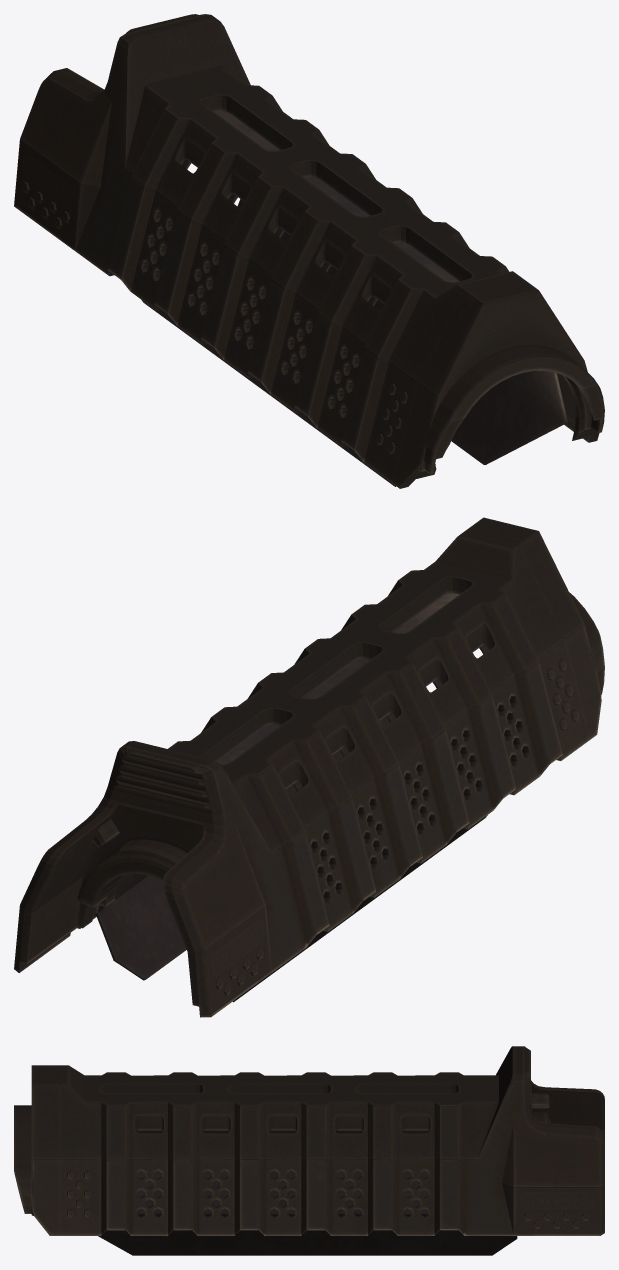
3 views of the same model, one above another, from view 1: azimuth 30°, elevation 25°; view 2: azimuth 150°, elevation 25°; view 3: azimuth 270°, elevation 25° (orthographic). The views are drawn at different scales.
Visible parts, largest first — view 1: TW_63969c9019971040b005049b_PZ_Import; view 2: TW_63969c9019971040b005049b_PZ_Import; view 3: TW_63969c9019971040b005049b_PZ_Import.
Part boxes in pixels (left/top/right/bottom): TW_63969c9019971040b005049b_PZ_Import: left=14, top=14, right=604, bottom=488; TW_63969c9019971040b005049b_PZ_Import: left=14, top=517, right=604, bottom=1017; TW_63969c9019971040b005049b_PZ_Import: left=14, top=1046, right=604, bottom=1255.
Bounding box in the file's own units: 0.0311 × 0.1068 × 0.0358.
1 material, 1 textured.
